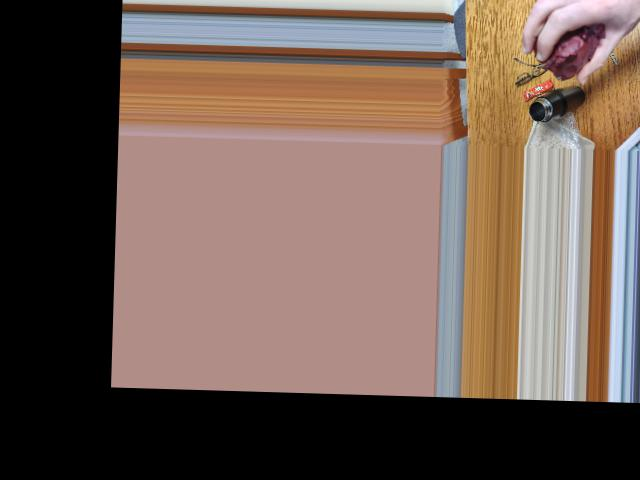onion: (538, 19, 606, 75)
